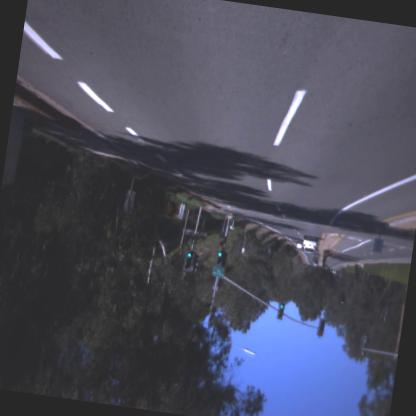trafficlight: (275, 301, 285, 323), (183, 250, 193, 270), (316, 316, 325, 338), (215, 249, 222, 265)
